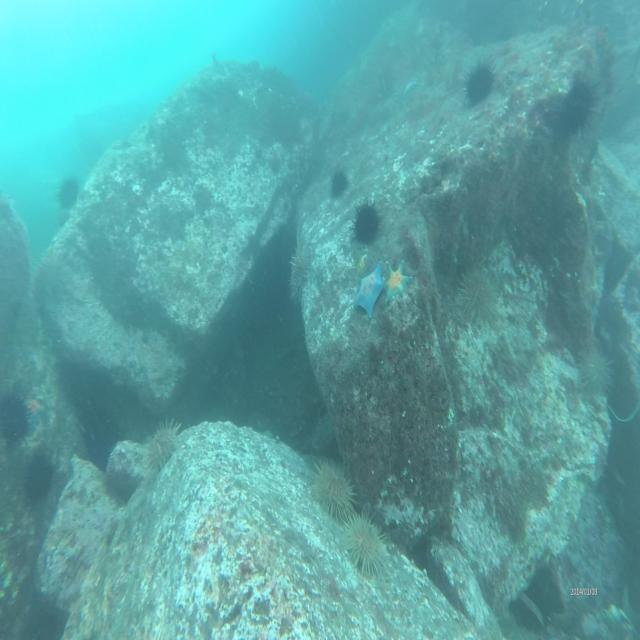echinus: (342, 502, 392, 584), (556, 70, 602, 148), (311, 451, 357, 525), (457, 261, 498, 330), (22, 439, 61, 505), (146, 420, 185, 483), (0, 384, 31, 455), (463, 60, 498, 108), (347, 196, 383, 240), (290, 242, 312, 300), (56, 172, 82, 212), (324, 167, 350, 202)
starfish: (355, 258, 386, 319), (18, 388, 48, 435), (382, 257, 412, 303)
